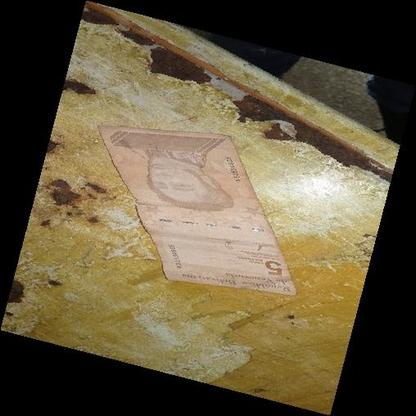five-front-vef: (97, 124, 298, 296)
